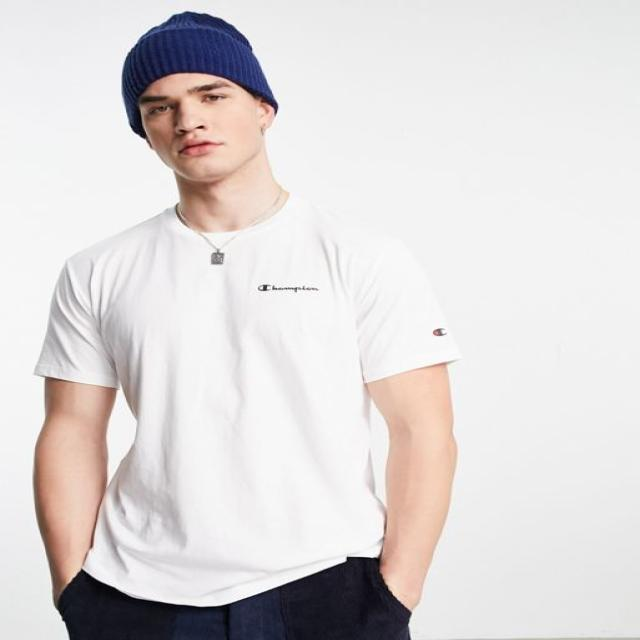tshirt: (33, 192, 459, 604)
